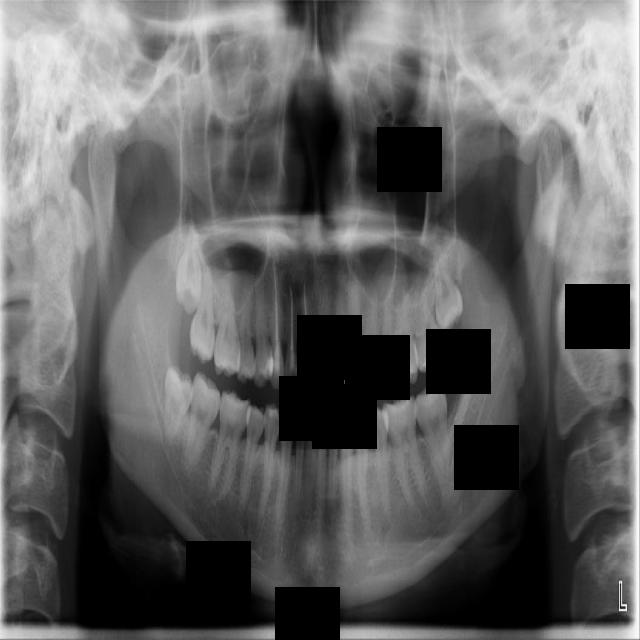3M ESPE Implant: (172, 221, 204, 317)
52: (388, 328, 419, 388), (268, 335, 284, 390), (283, 350, 299, 393), (300, 351, 315, 396)
73: (266, 249, 283, 353), (295, 282, 313, 356), (287, 283, 297, 353), (600, 594, 607, 607)
BioHorizons Implant: (402, 267, 448, 378)
BioLife Implant: (429, 233, 465, 338)
Blue Sky Bio Implant: (412, 380, 453, 478)
Caries: (186, 266, 217, 365)
Implant: (182, 371, 224, 474)
Keystone Dental Implant: (163, 365, 194, 439)
